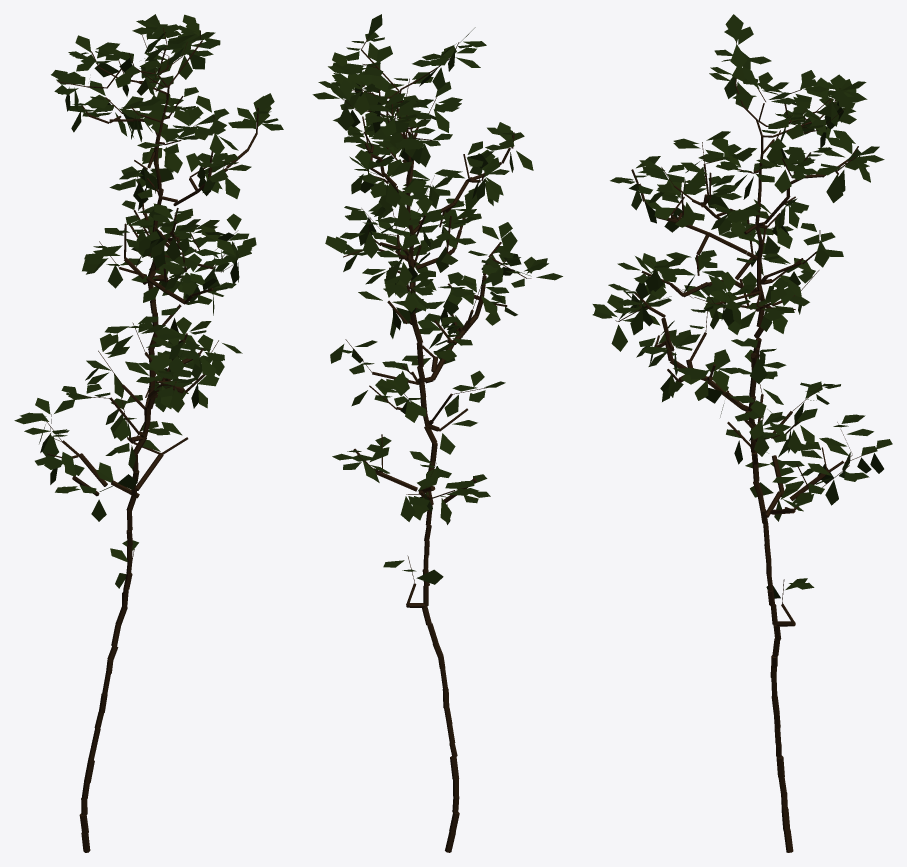
Rendered from 2022_tree_525.obj.
3 views of the same model, side by side, from view 1: azimuth 30°, elevation 25°; view 2: azimuth 150°, elevation 25°; view 3: azimuth 270°, elevation 25° (orthographic). The views are drawn at different scales.
Parts seen in each view (by area): view 1: Leaves, TrunkAndBranches; view 2: Leaves, TrunkAndBranches; view 3: Leaves, TrunkAndBranches.
Part boxes in pixels (bbox=[...]): Leaves: bbox=[14, 14, 283, 588]; TrunkAndBranches: bbox=[47, 27, 258, 852]; Leaves: bbox=[312, 14, 562, 584]; TrunkAndBranches: bbox=[342, 36, 531, 852]; Leaves: bbox=[592, 14, 892, 598]; TrunkAndBranches: bbox=[615, 41, 875, 852].
Bounding box in the file's own units: 2.27 × 9.42 × 3.06.
